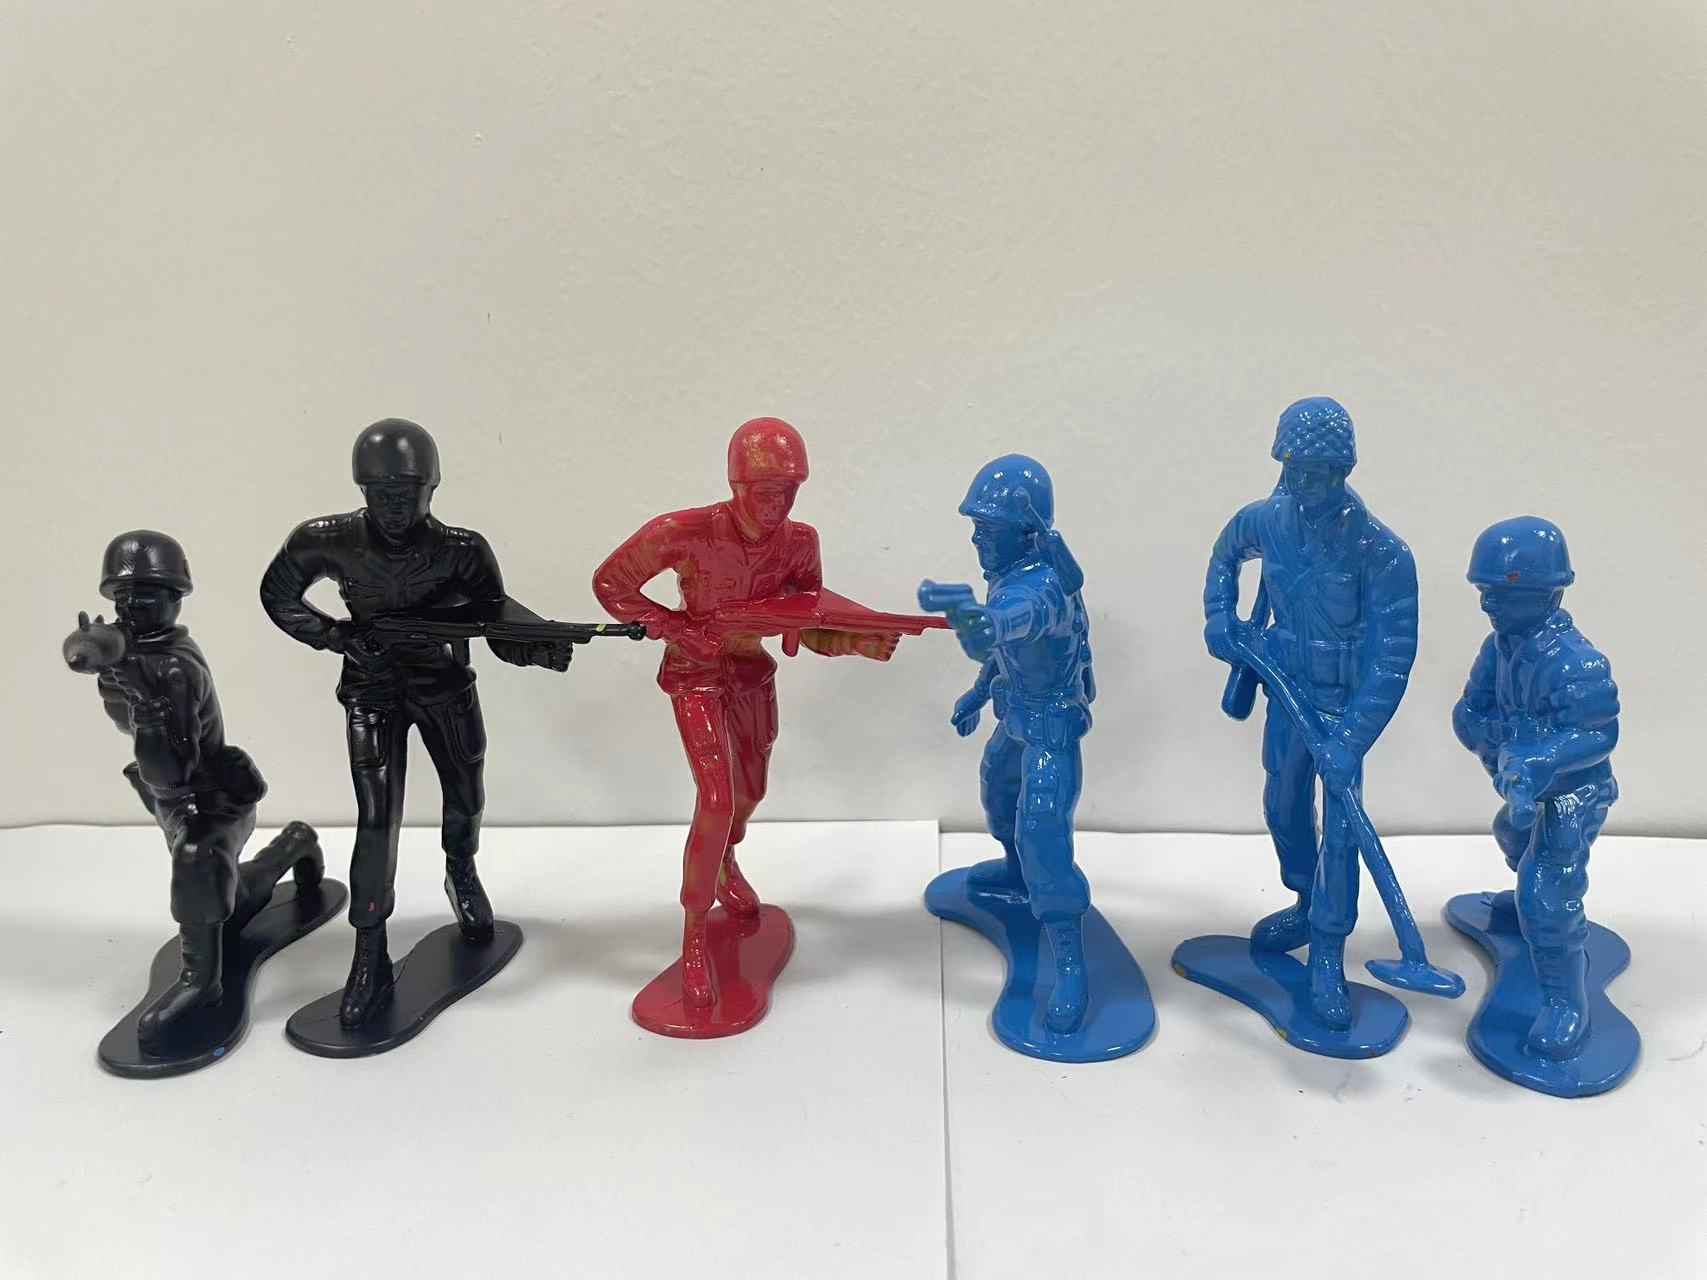black: (255, 391, 603, 1116), (38, 493, 272, 1121)
blue: (1159, 346, 1452, 1080), (1434, 469, 1698, 1133), (901, 418, 1164, 1068)
red: (569, 379, 934, 1089)
